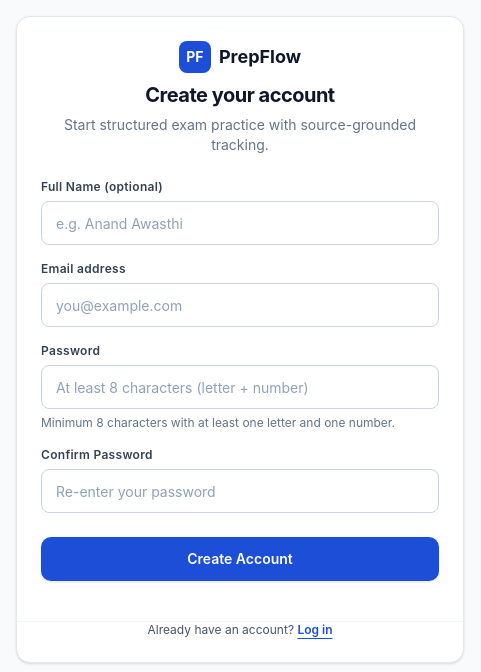
Test case: SignupPage Component Accessibility & Interactions (PF-007) › submits form and transitions to verification view when verification is required
Type "Anand Awasthi" into the field labelled "Full Name (optional)" at (240,223), box 41,201 -> 439,245
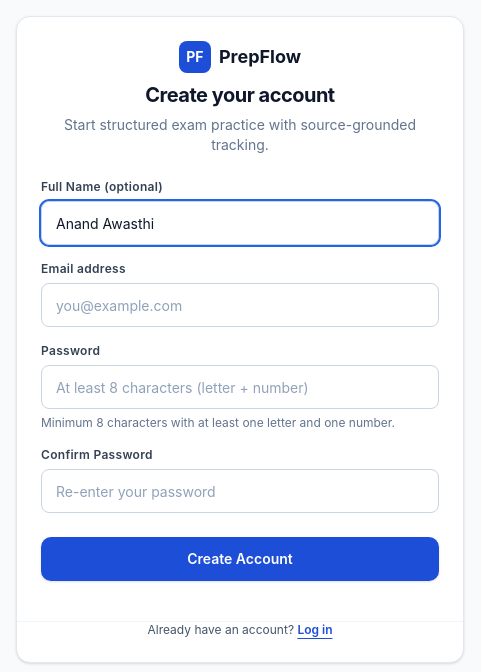
Type "anand@example.com" into the field labelled "Email address" at (240,305), box 41,283 -> 439,327
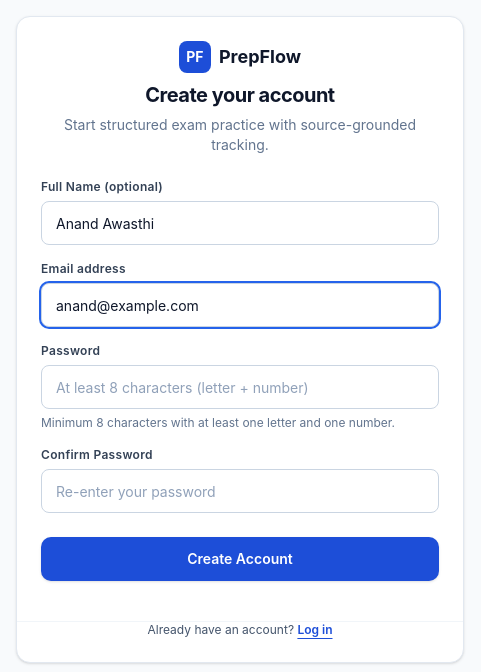
Type "Password123" into the password field labelled "Password" at (240,387), box 41,365 -> 439,409
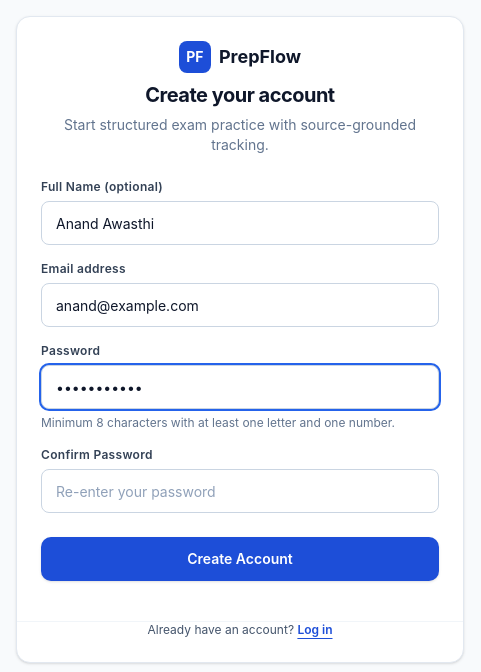
Type "Password123" into the password field labelled "Confirm Password" at (240,491), box 41,469 -> 439,513
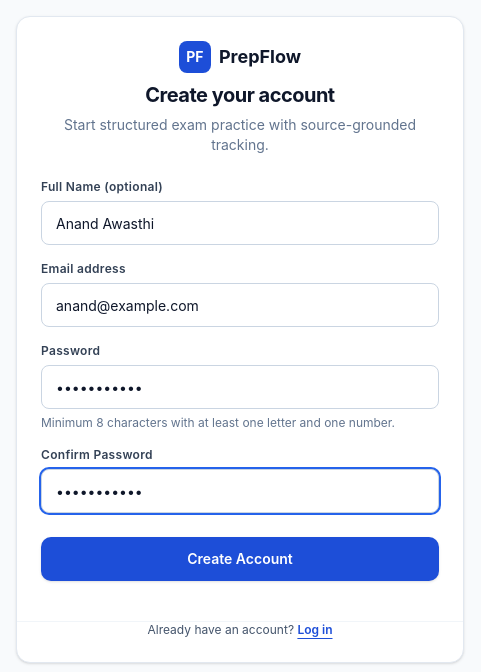
Click the button "Create Account" at (240,559), box 41,537 -> 439,581
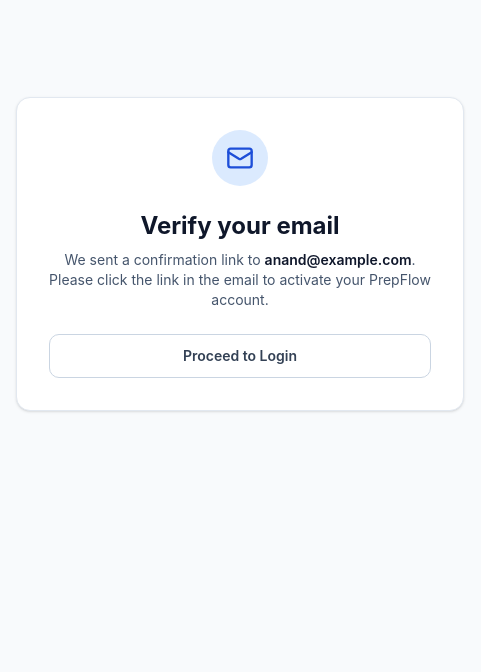
expect the heading "Verify your email" is shown: met, box 140,211 -> 340,240
expect the text "We sent a confirmation link to" is shown: met, box 64,251 -> 261,268
expect the text "anand@example.com" is shown: met, box 265,251 -> 412,268
